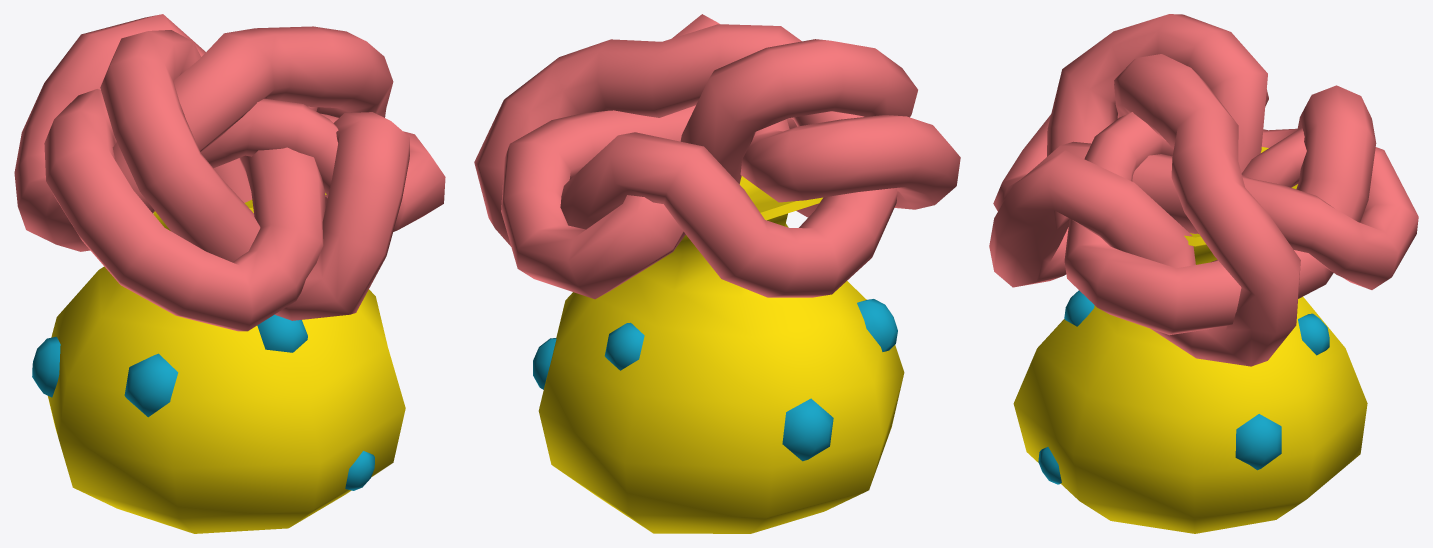
The model's file is Plant_2_yellow.fbx.
3 views of the same model, side by side, from view 1: azimuth 30°, elevation 25°; view 2: azimuth 150°, elevation 25°; view 3: azimuth 270°, elevation 25° (orthographic). The views are drawn at different scales.
Parts seen in each view (by area): view 1: Plant_2_yellow; view 2: Plant_2_yellow; view 3: Plant_2_yellow.
Part boxes in pixels (x1=…): Plant_2_yellow: x1=14, y1=14, x2=445, y2=533; Plant_2_yellow: x1=474, y1=14, x2=960, y2=533; Plant_2_yellow: x1=989, y1=14, x2=1418, y2=533.
Size of the model in its own units: 3.19 by 3.72 by 3.28.
